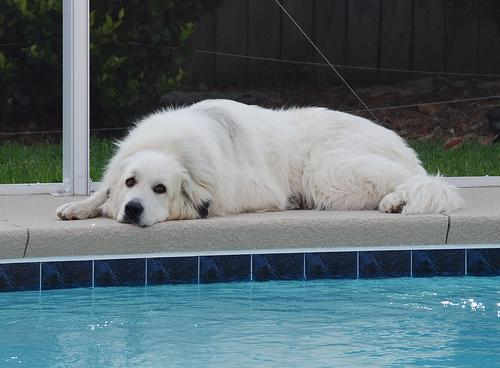Great_Pyrenees: (55, 98, 461, 226)
